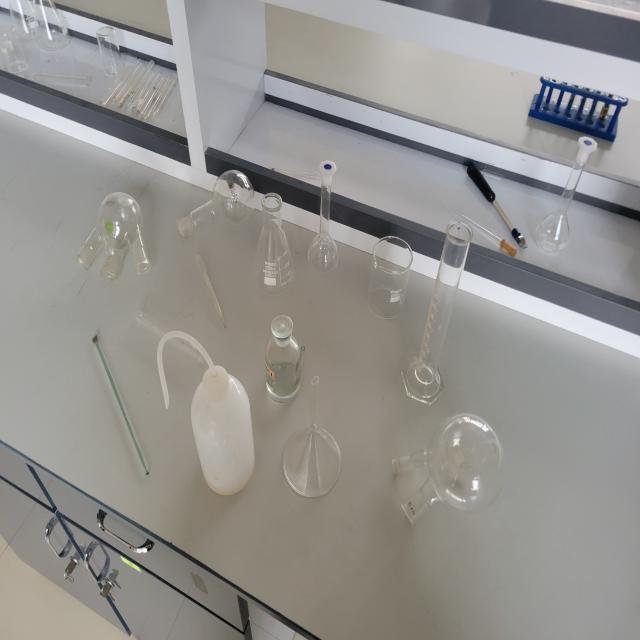Beaker: (358, 228, 427, 339)
Funnel: (273, 366, 363, 518)
Glass_Rod: (84, 318, 164, 489)
Measuring_Cylinder: (392, 214, 489, 411)
Pipette: (189, 247, 243, 333)
Reagent_Bottle: (253, 307, 323, 410)
Round_Bottom_Flask_Borosilicate_Glass_1_Neck: (173, 148, 260, 254)
Round_Bottom_Flask_Borosilicate_Glass_2_Neck: (377, 379, 533, 557)
Round_Bottom_Flask_Borosilicate_Glass_3_Neck: (67, 170, 162, 303)
TestTube_Holder: (453, 156, 538, 254)
Volumetric_Flask: (532, 128, 605, 273), (296, 151, 351, 290)
